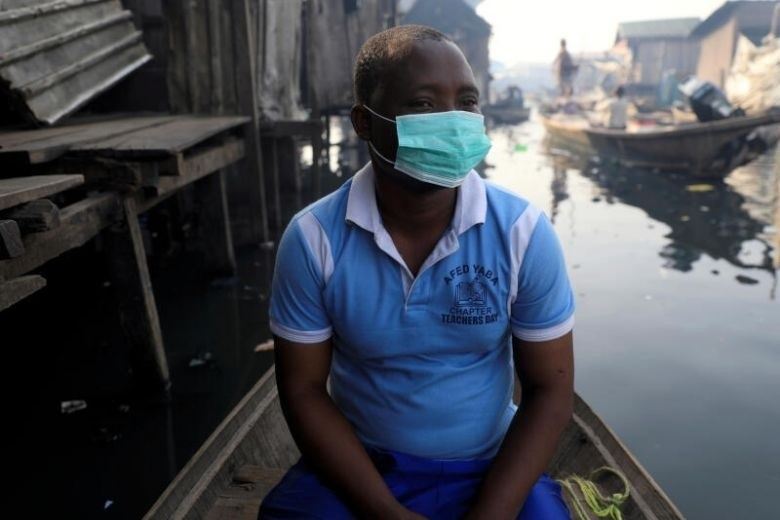face_with_mask: (351, 24, 494, 195)
